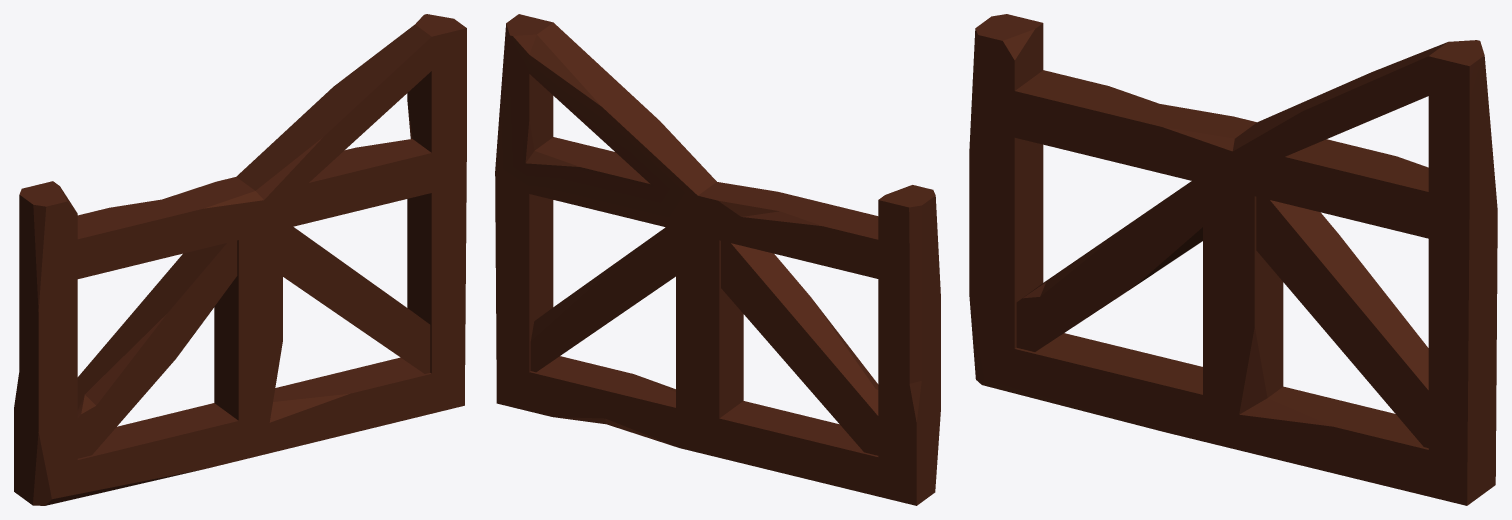
File: Gate_Door_Right.fbx
The picture shows the model from 3 angles, left to right: view 1: azimuth 30°, elevation 25°; view 2: azimuth 150°, elevation 25°; view 3: azimuth 330°, elevation 25°; orthographic projection. The views are drawn at different scales.
Parts seen in each view (by area): view 1: Gate_Door_Right; view 2: Gate_Door_Right; view 3: Gate_Door_Right.
Boxes of the visible parts, x1,y1,x2,y2 form: Gate_Door_Right: [14, 14, 466, 505]; Gate_Door_Right: [495, 14, 940, 505]; Gate_Door_Right: [969, 14, 1497, 505].
Bounding box in the file's own units: 41.76 × 35.11 × 4.14.
